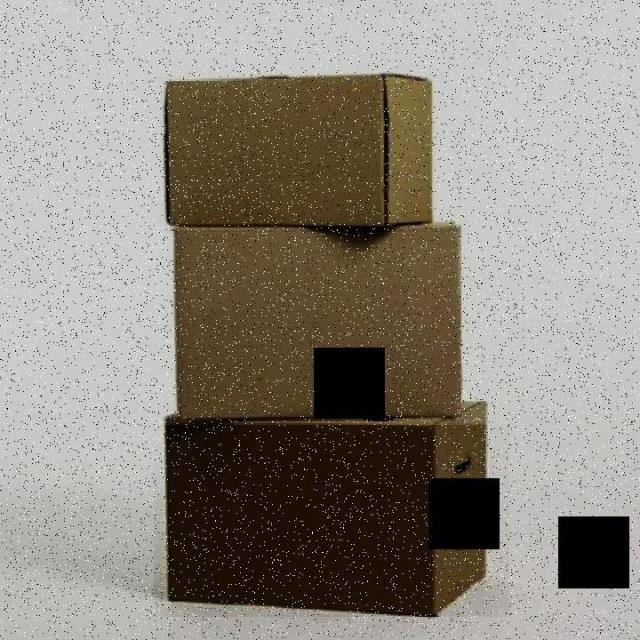box: (139, 232, 518, 423), (154, 425, 509, 617), (151, 60, 448, 231)
